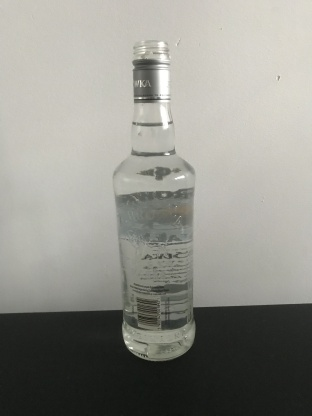nakretka: (130, 39, 172, 103)
